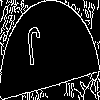J: (25, 25, 44, 76)
